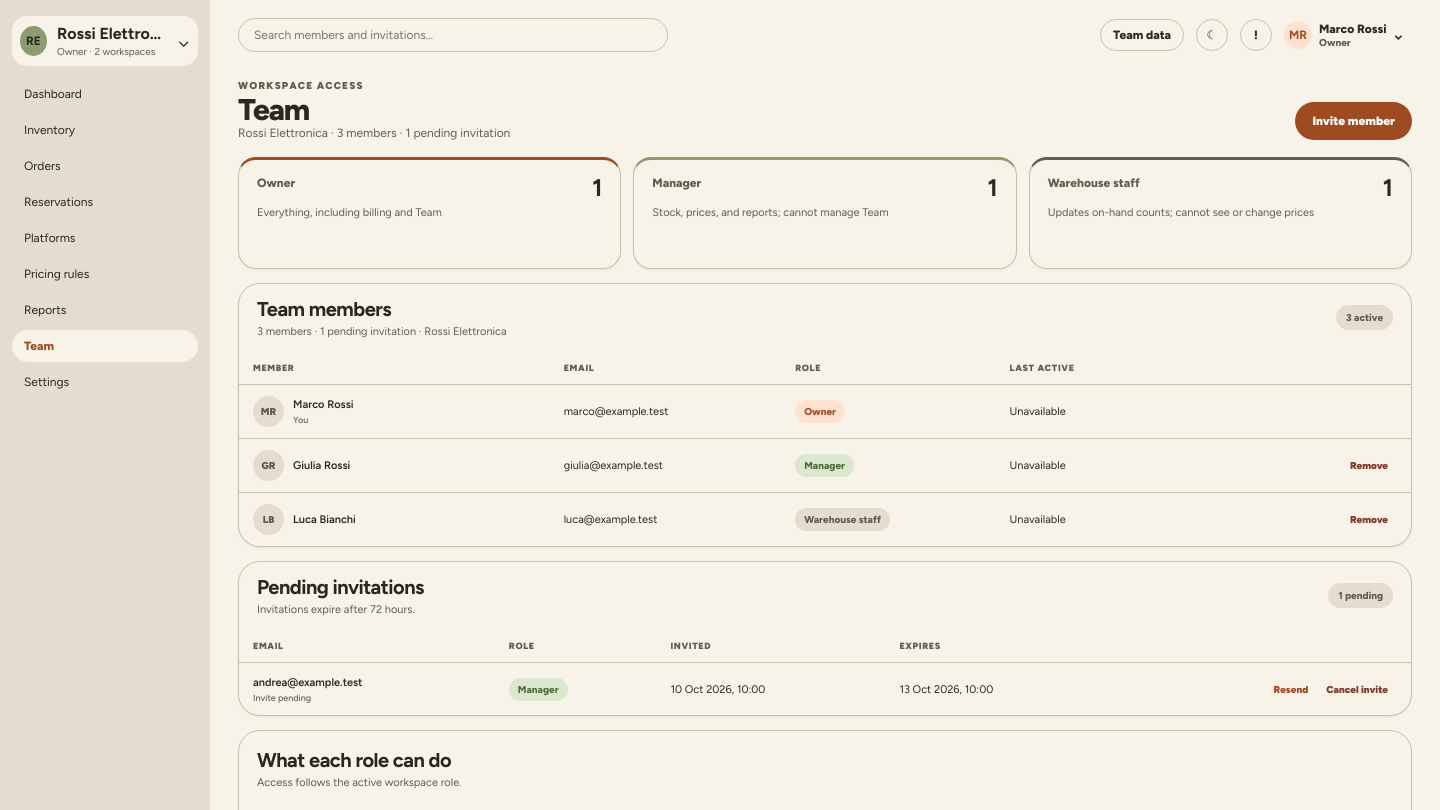
Test case: Milestone 9 Team route › confirms cancellation before invalidating the pending invitation
What coordinates should you click on to do the following:
click the button "Cancel invite"
I would click on:
 (1357, 689)
Its box is x1=1317 y1=674 x2=1397 y2=704.
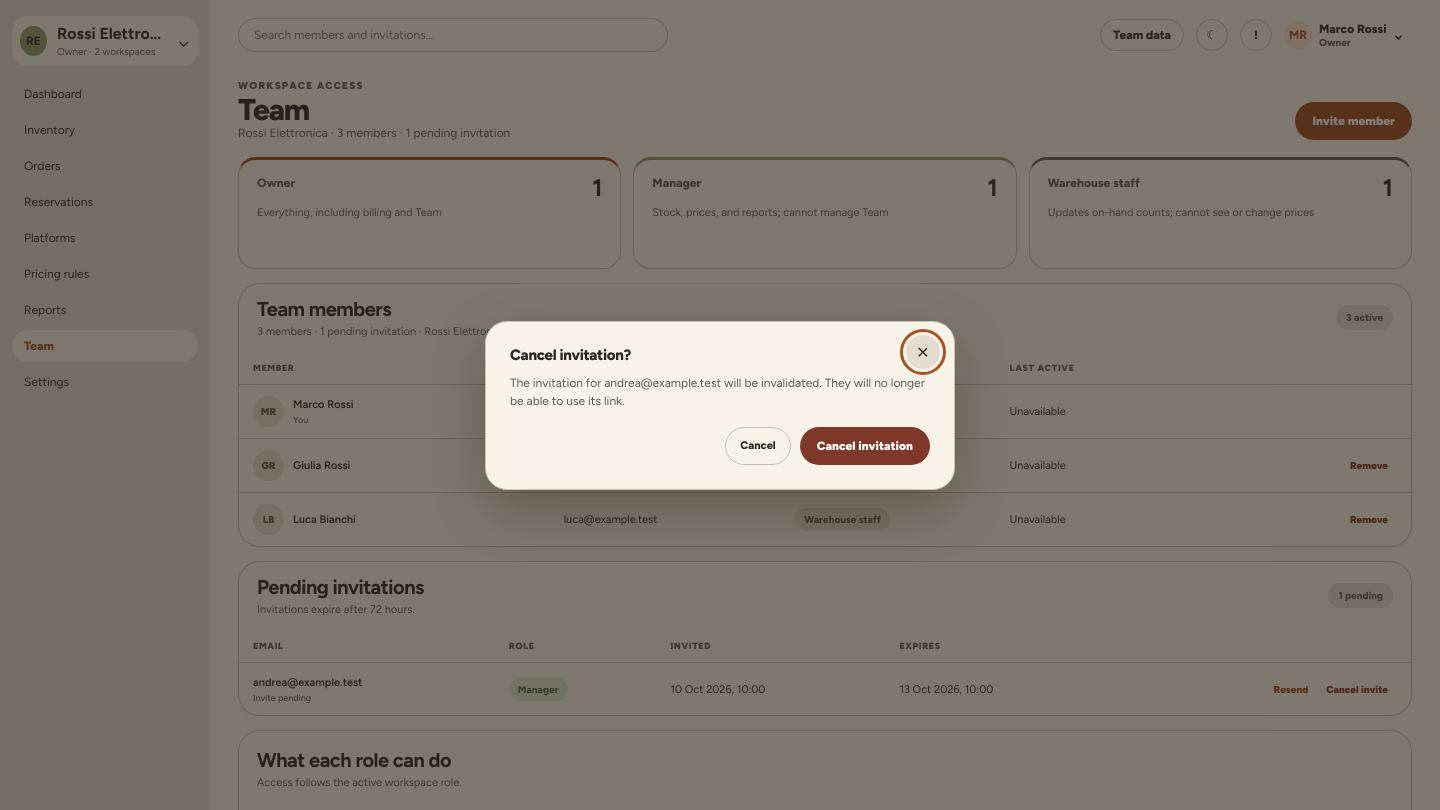
Check: the text "will be invalidated" is shown, box x1=510 y1=376 x2=925 y2=408
What coordinates should you click on to do the following:
click the button "Cancel invitation"
I would click on:
 (865, 446)
Its box is x1=800 y1=426 x2=930 y2=464.
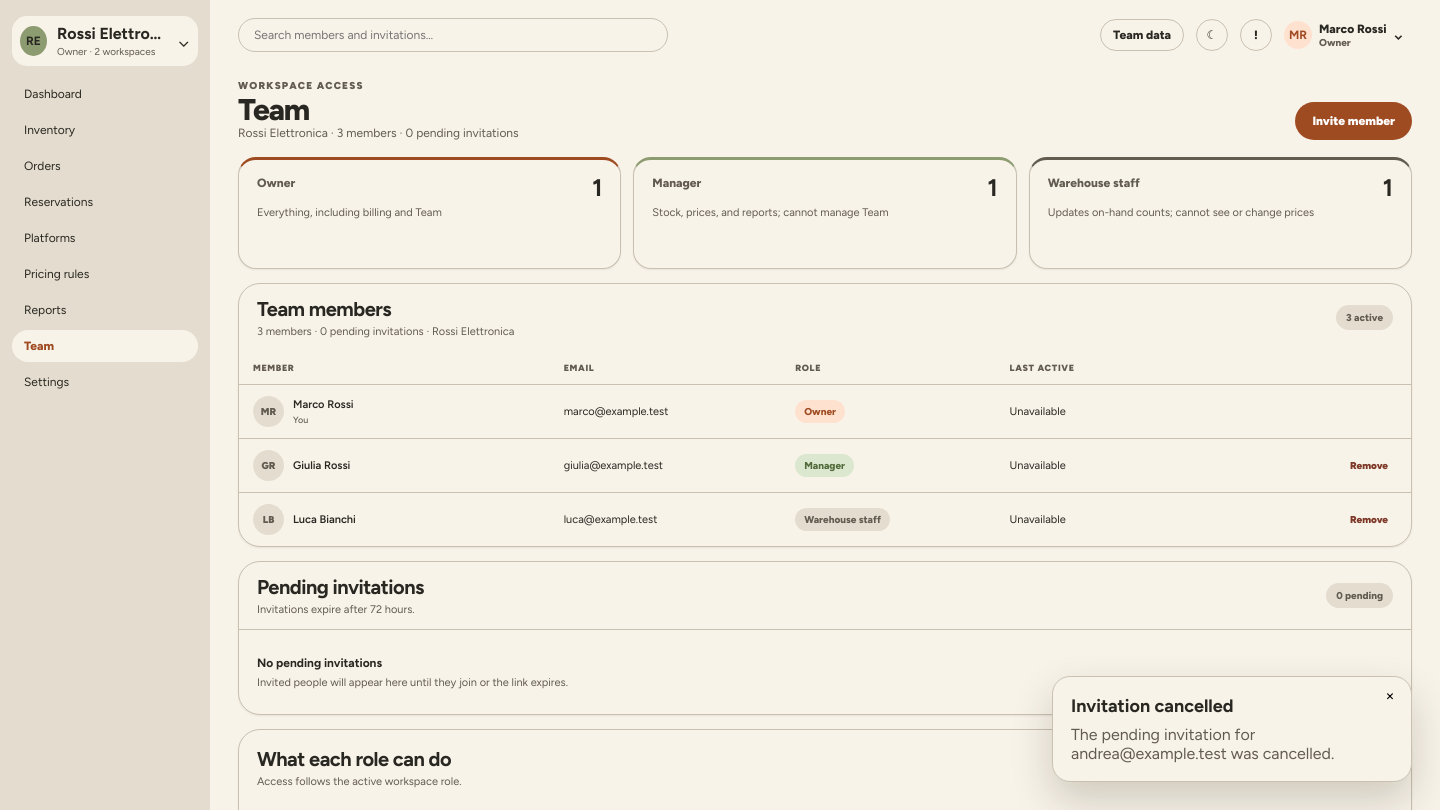
Check: the text "andrea@example.test" is not shown
Check: the text "Invitation cancelled" is shown, box x1=1071 y1=695 x2=1234 y2=717
